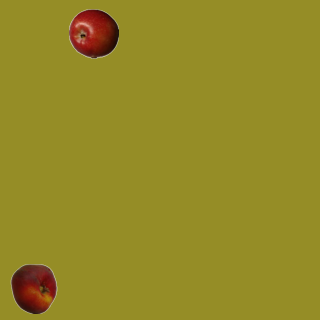Apple Braeburn: (68, 8, 118, 58)
Nectarine Flat: (8, 263, 58, 313)
